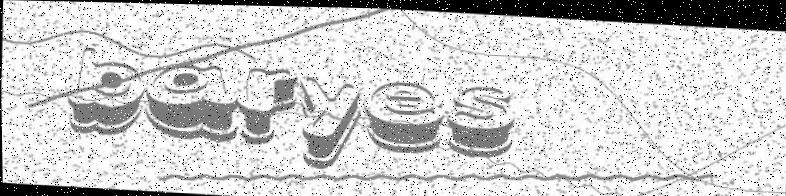a: (144, 59, 239, 145)
b: (64, 44, 147, 137)
e: (360, 77, 443, 153)
r: (235, 65, 300, 146)
s: (444, 81, 517, 157)
y: (296, 71, 363, 169)
